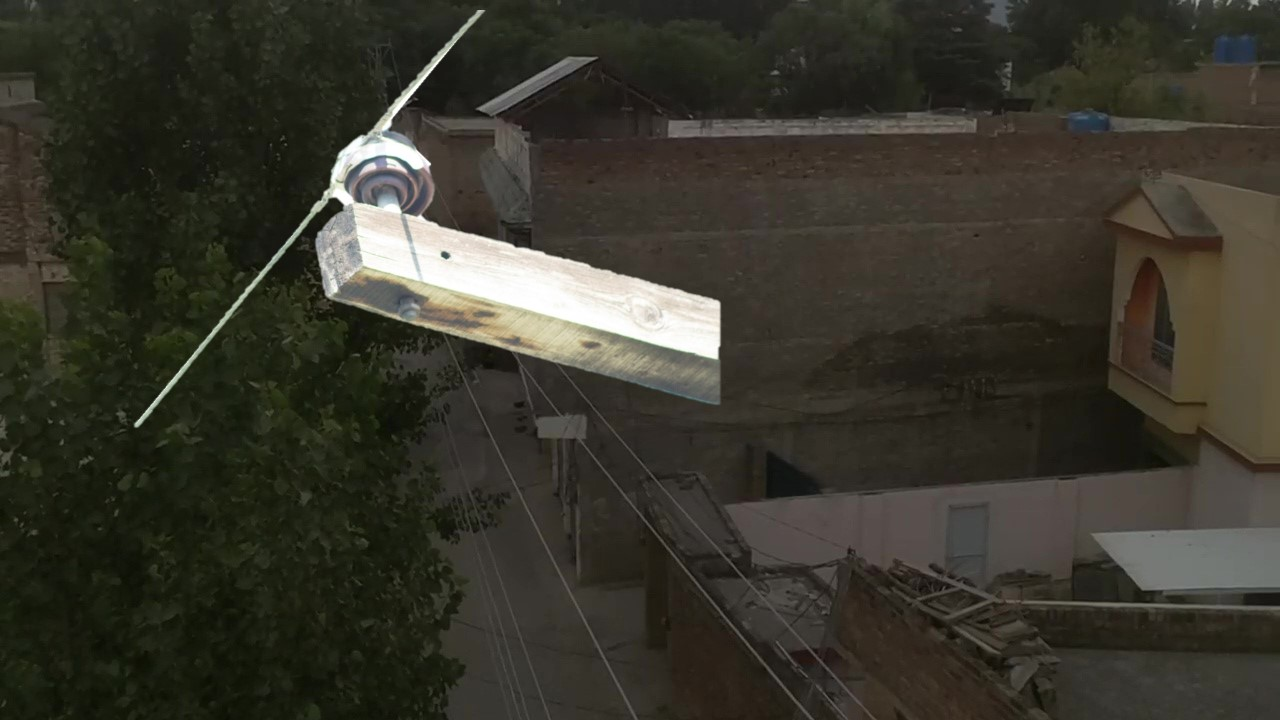defect_pin: (330, 126, 440, 221)
